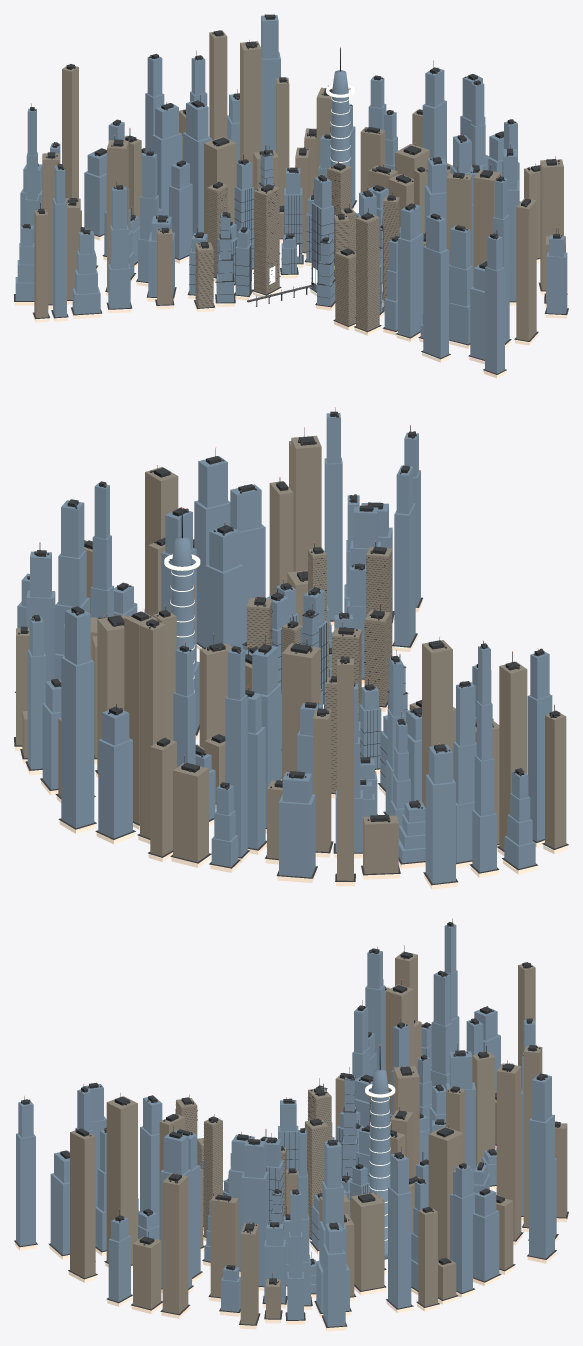
Rendered from city.glb.
3 renders of one model, top to bottom at view 1: azimuth 30°, elevation 25°; view 2: azimuth 150°, elevation 25°; view 3: azimuth 270°, elevation 25°, orthographic. The views are drawn at different scales.
Visible parts, largest first — view 1: City_Far_1, City_Far_3, City_Far_2, City_Far_0, City_Mid015, City_LeftA, City_Landmark, City_RightA, City_Mid001, City_Center, City_FarLeft, City_Mid014 (+10 smaller); view 2: City_Far_3, City_Far_1, City_Far_2, City_Far_0, City_Landmark, City_Mid001, City_Mid015, City_LeftB, City_LeftA, City_CenterRight, City_RightA, City_Mid006 (+3 smaller); view 3: City_Far_1, City_Far_0, City_Far_2, City_Far_3, City_Landmark, City_Mid017, City_CenterRight, City_CenterLeft, City_RightA, City_Mid006, City_LeftA, City_Mid015 (+2 smaller).
Boxes of the visible parts, box(x1,y1,x2,y2) form: City_Far_1: box(14, 75, 568, 364); City_Far_3: box(25, 30, 563, 345); City_Far_2: box(20, 40, 540, 347); City_Far_0: box(65, 14, 567, 378); City_Mid015: box(354, 207, 381, 335); City_LeftA: box(252, 177, 281, 298); City_Landmark: box(326, 47, 354, 166); City_RightA: box(309, 174, 334, 295); City_Mid001: box(333, 245, 355, 330); City_Center: box(284, 165, 303, 267); City_FarLeft: box(215, 206, 235, 306); City_Mid014: box(234, 153, 253, 272); City_Far_3: box(15, 441, 552, 877); City_Far_1: box(25, 465, 568, 874); City_Far_2: box(84, 407, 493, 889); City_Far_0: box(14, 425, 499, 872); City_Landmark: box(164, 507, 200, 692); City_Mid001: box(364, 603, 390, 711); City_Mid015: box(366, 541, 392, 657); City_LeftB: box(359, 678, 381, 773); City_LeftA: box(332, 621, 361, 721); City_CenterRight: box(247, 597, 272, 650); City_RightA: box(300, 584, 327, 708); City_Mid006: box(266, 587, 289, 688); City_Far_1: box(48, 945, 558, 1323); City_Far_0: box(14, 1018, 568, 1317); City_Far_2: box(75, 962, 535, 1329); City_Far_3: box(68, 918, 556, 1331); City_Landmark: box(365, 1044, 395, 1259); City_Mid017: box(203, 1114, 223, 1241); City_CenterRight: box(305, 1118, 328, 1241); City_CenterLeft: box(341, 1067, 357, 1178); City_RightA: box(278, 1097, 298, 1171); City_Mid006: box(265, 1133, 283, 1223); City_LeftA: box(308, 1083, 331, 1140); City_Mid015: box(176, 1094, 197, 1134).
Bounding box in the file's own units: 883 × 366 × 881.
